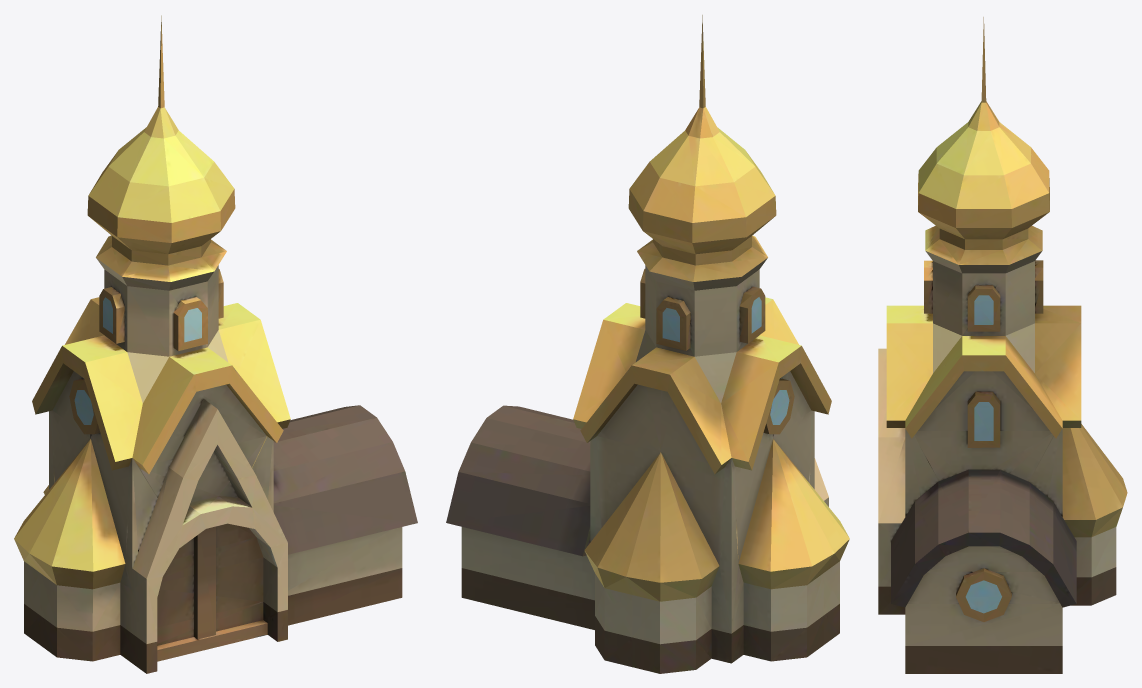
The model's file is 5ii3ywpObcd.glb.
The picture shows the model from 3 angles, left to right: view 1: azimuth 30°, elevation 25°; view 2: azimuth 150°, elevation 25°; view 3: azimuth 270°, elevation 25°; orthographic projection. The views are drawn at different scales.
Parts seen in each view (by area): view 1: church; view 2: church; view 3: church.
Part boxes in pixels (left/top/right/bottom): church: left=14, top=15, right=417, bottom=673; church: left=446, top=15, right=849, bottom=673; church: left=878, top=17, right=1127, bottom=673.
Size of the model in its own units: 0.5904 by 1 by 0.3974.
Materials: 1 (1 with a texture image).
